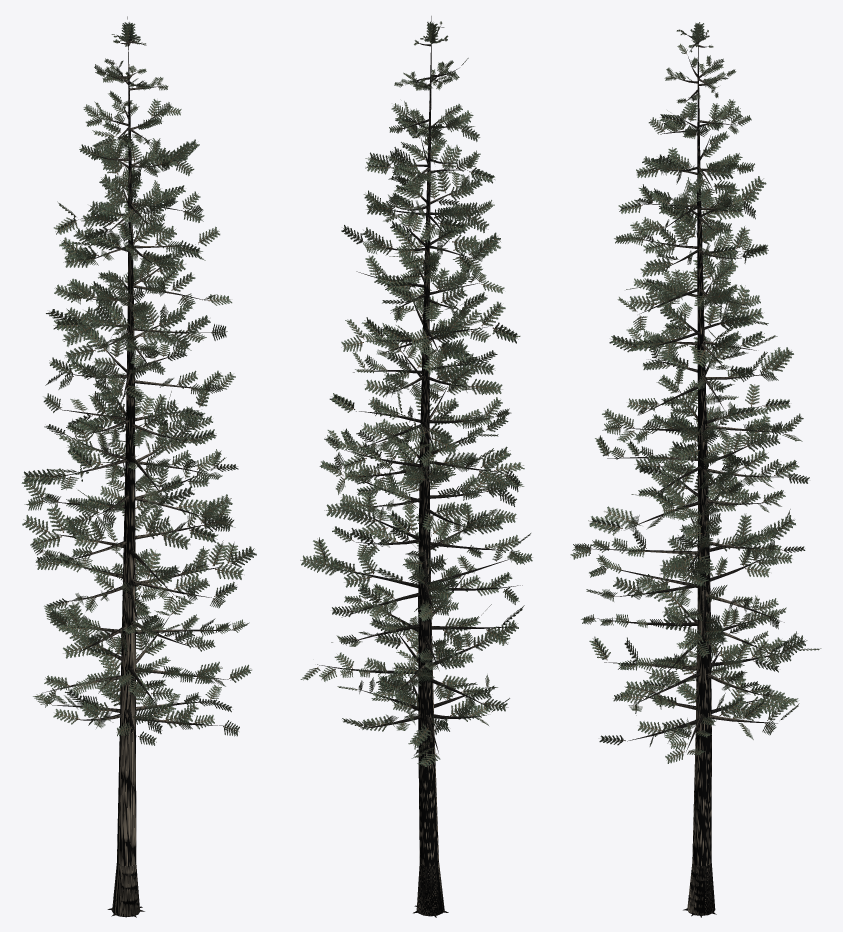
The model's file is Sitka_Mature_03_Unpruned_LOD1.fbx.
3 renders of one model, left to right at view 1: azimuth 30°, elevation 25°; view 2: azimuth 150°, elevation 25°; view 3: azimuth 270°, elevation 25°, orthographic.
Parts seen in each view (by area): view 1: Sitka_Mature_03_Unpruned_LOD1; view 2: Sitka_Mature_03_Unpruned_LOD1; view 3: Sitka_Mature_03_Unpruned_LOD1.
Part boxes in pixels (bbox=[...]): Sitka_Mature_03_Unpruned_LOD1: bbox=[21, 16, 256, 917]; Sitka_Mature_03_Unpruned_LOD1: bbox=[300, 16, 532, 917]; Sitka_Mature_03_Unpruned_LOD1: bbox=[570, 22, 821, 917].
Size of the model in its own units: 656 by 2400 by 641.
2 materials, 2 textured.
